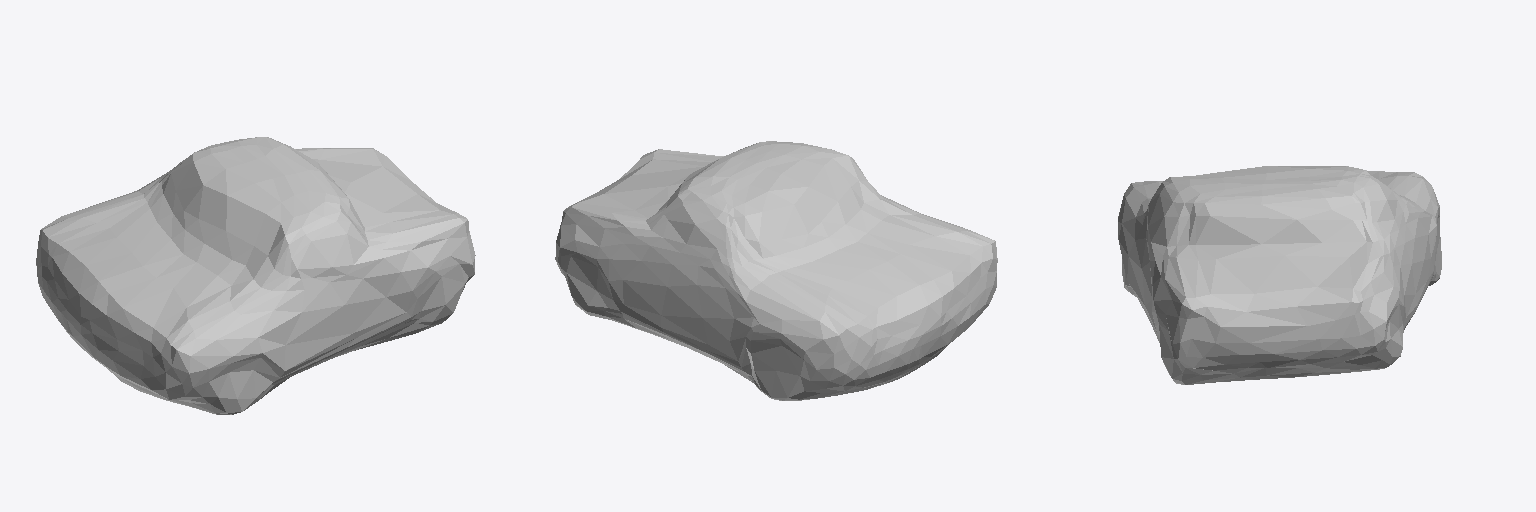
Rendered from video3_275.obj.
3 renders of one model, left to right at view 1: azimuth 30°, elevation 25°; view 2: azimuth 150°, elevation 25°; view 3: azimuth 270°, elevation 25°, orthographic.
Size of the model in its own units: 1 by 0.4627 by 0.806.